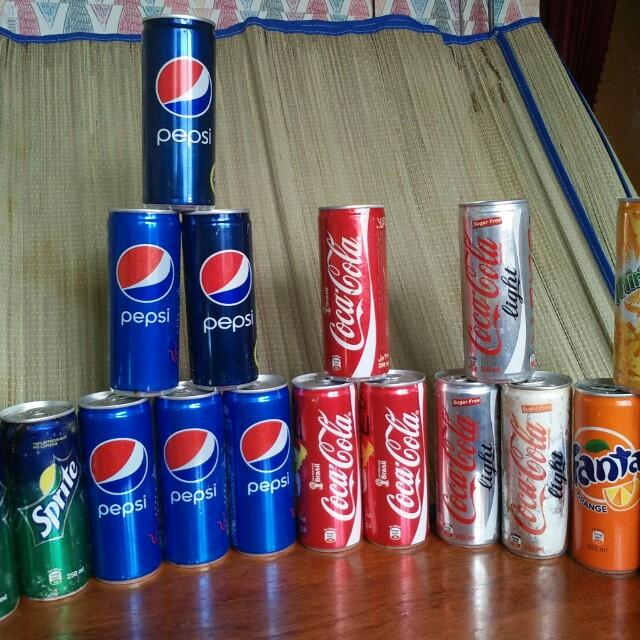metal: (1, 397, 91, 608), (77, 390, 164, 590), (101, 202, 184, 397), (137, 11, 219, 208), (312, 200, 400, 381), (454, 200, 542, 381), (156, 384, 231, 574), (570, 373, 640, 573), (182, 208, 262, 381), (226, 377, 298, 558), (294, 372, 364, 554), (609, 196, 640, 390)
